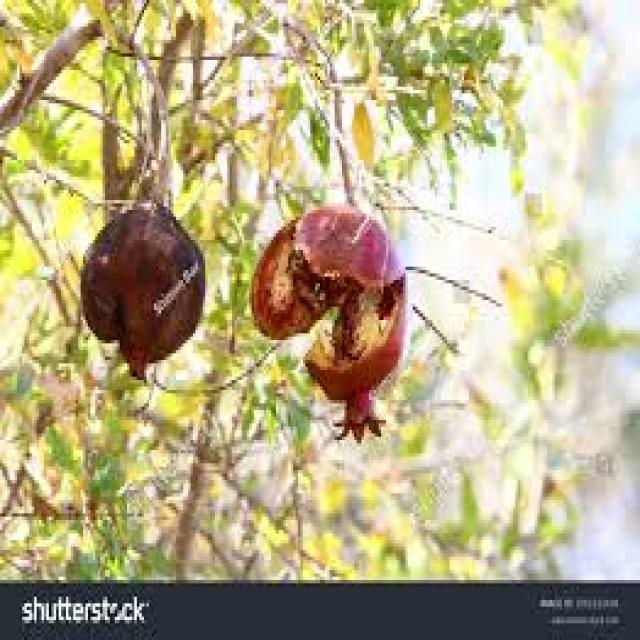overripe: (246, 202, 414, 442), (72, 196, 209, 382)
